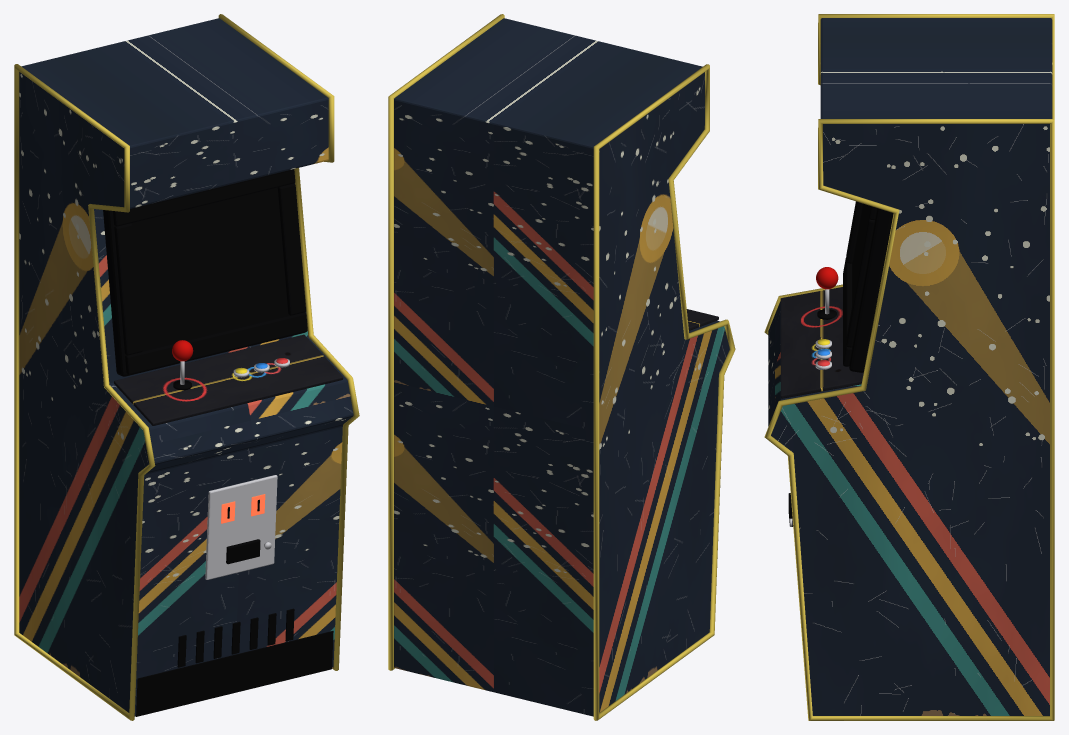
File: arcade-cabinet-arcade.glb
3 views of the same model, side by side, from view 1: azimuth 30°, elevation 25°; view 2: azimuth 150°, elevation 25°; view 3: azimuth 270°, elevation 25° (orthographic). The views are drawn at different scales.
Parts seen in each view (by area): view 1: Shell, Würfel.004, Würfel.005, TMoulding, Würfel.012, Würfel.006, TMoulding.001, Würfel.001, Würfel, Würfel.002, Würfel.003, Würfel.011; view 2: Shell, TMoulding, TMoulding.001; view 3: Shell, TMoulding.001, Würfel.005, Würfel.004, TMoulding, Würfel.003, Würfel.001, Würfel.002.
Part boxes in pixels (x1,y1,x2,y2): Shell: [19, 18, 353, 716]; Würfel.004: [103, 187, 305, 376]; Würfel.005: [114, 334, 343, 425]; TMoulding: [14, 64, 155, 720]; Würfel.012: [135, 631, 333, 716]; Würfel.006: [205, 475, 277, 579]; TMoulding.001: [218, 14, 359, 670]; Würfel.001: [125, 312, 307, 374]; Würfel: [113, 169, 295, 226]; Würfel.002: [114, 223, 142, 355]; Würfel.003: [277, 183, 305, 315]; Würfel.011: [226, 539, 260, 564]; Shell: [394, 18, 729, 716]; TMoulding: [593, 64, 735, 720]; TMoulding.001: [388, 14, 504, 670]; Shell: [768, 18, 1052, 715]; TMoulding.001: [764, 119, 1054, 720]; Würfel.005: [780, 287, 863, 398]; Würfel.004: [849, 203, 893, 372]; TMoulding: [764, 14, 1054, 334]; Würfel.003: [846, 214, 874, 347]; Würfel.001: [843, 257, 852, 366]; Würfel.002: [846, 201, 863, 263].
Bounding box in the file's own units: 0.77 × 2 × 0.8767.
10 materials, 2 textured.
